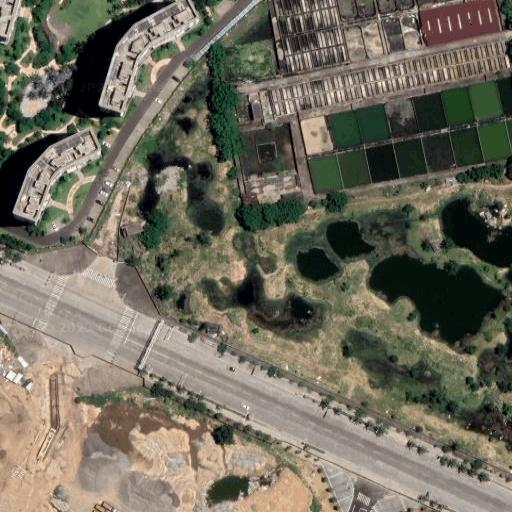building: (16, 131, 105, 225), (419, 0, 502, 46), (102, 51, 146, 118), (143, 1, 202, 48), (120, 26, 156, 59), (281, 191, 304, 207), (122, 220, 141, 237), (250, 101, 263, 119), (5, 369, 17, 381), (12, 371, 23, 384), (429, 240, 440, 252), (483, 209, 494, 220), (204, 326, 219, 334), (184, 57, 195, 67), (0, 323, 9, 335)
